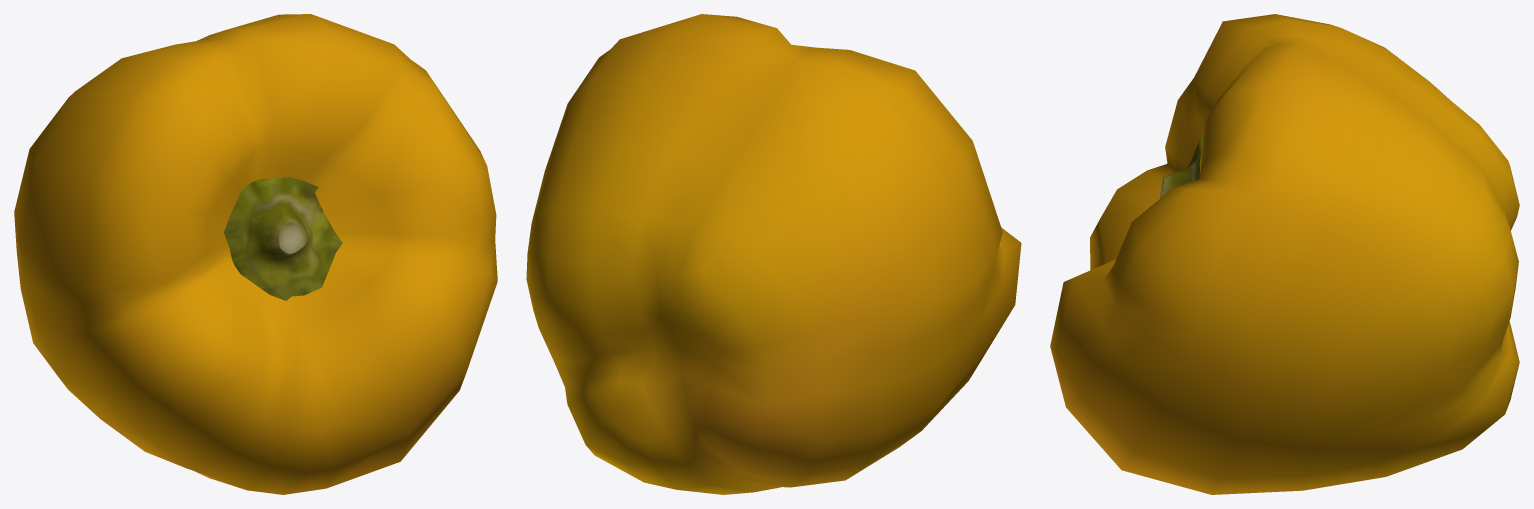
The model's file is yellow_bell_pepper_no_stem_low.obj.
3 renders of one model, left to right at view 1: azimuth 30°, elevation 25°; view 2: azimuth 150°, elevation 25°; view 3: azimuth 270°, elevation 25°, orthographic. The views are drawn at different scales.
Parts seen in each view (by area): view 1: yellow_bell_pepper_no_stem_low; view 2: yellow_bell_pepper_no_stem_low; view 3: yellow_bell_pepper_no_stem_low.
Part boxes in pixels (box(x1,y1,x2,y2)): yellow_bell_pepper_no_stem_low: box(14, 14, 497, 494); yellow_bell_pepper_no_stem_low: box(526, 14, 1021, 494); yellow_bell_pepper_no_stem_low: box(1050, 14, 1519, 494).
Size of the model in its own units: 0.0806 by 0.0805 by 0.0808.
1 material, 1 textured.
